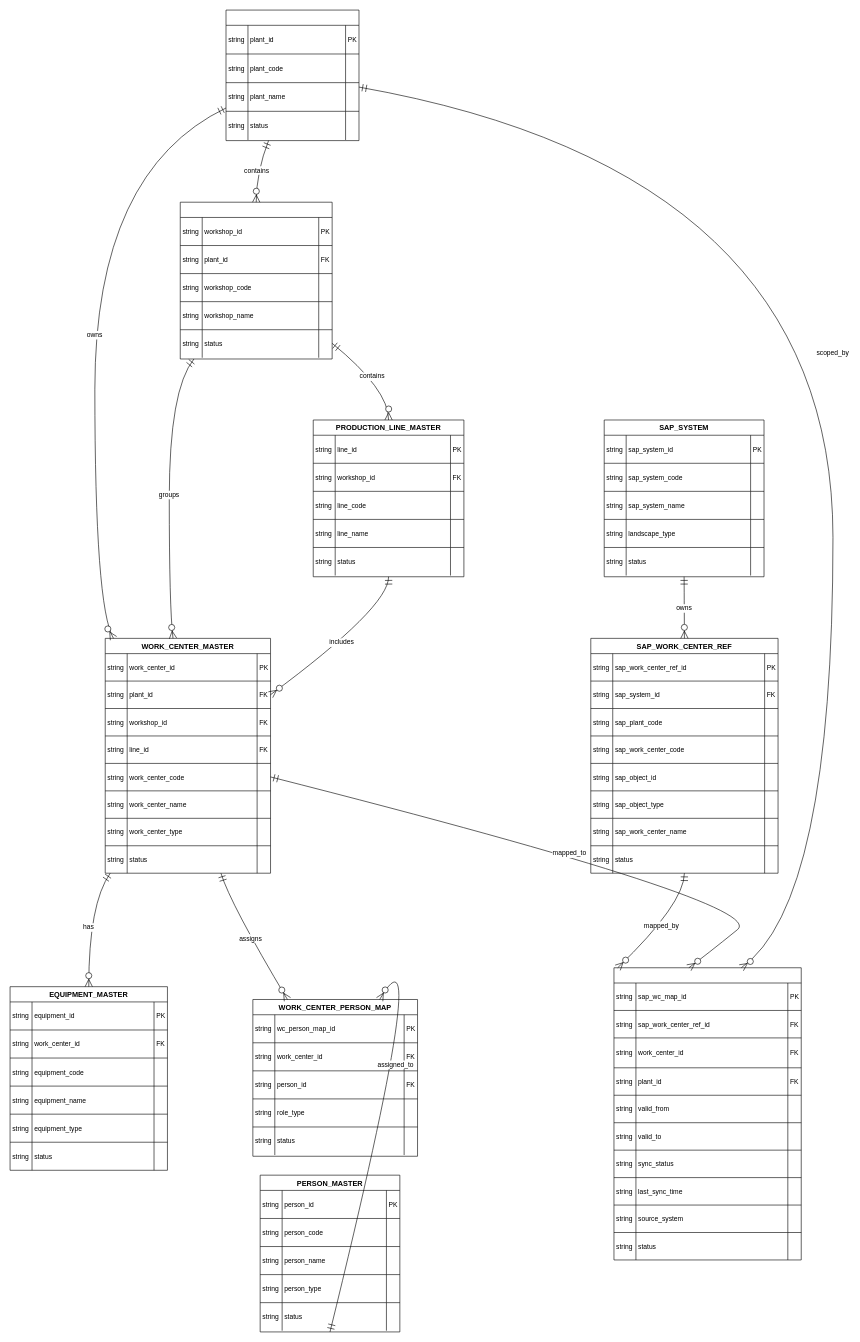
The diagram is 860 pixels wide and 1342 high, and some of its shapes have lost their labels. The box of each missing label's shape, as (x1, y1, x2, y2) in pixels:
PLANT_MASTER: (225, 9, 359, 141)
SAP_WORK_CENTER_MAP: (613, 967, 801, 1260)
WORKSHOP_MASTER: (180, 202, 332, 359)
